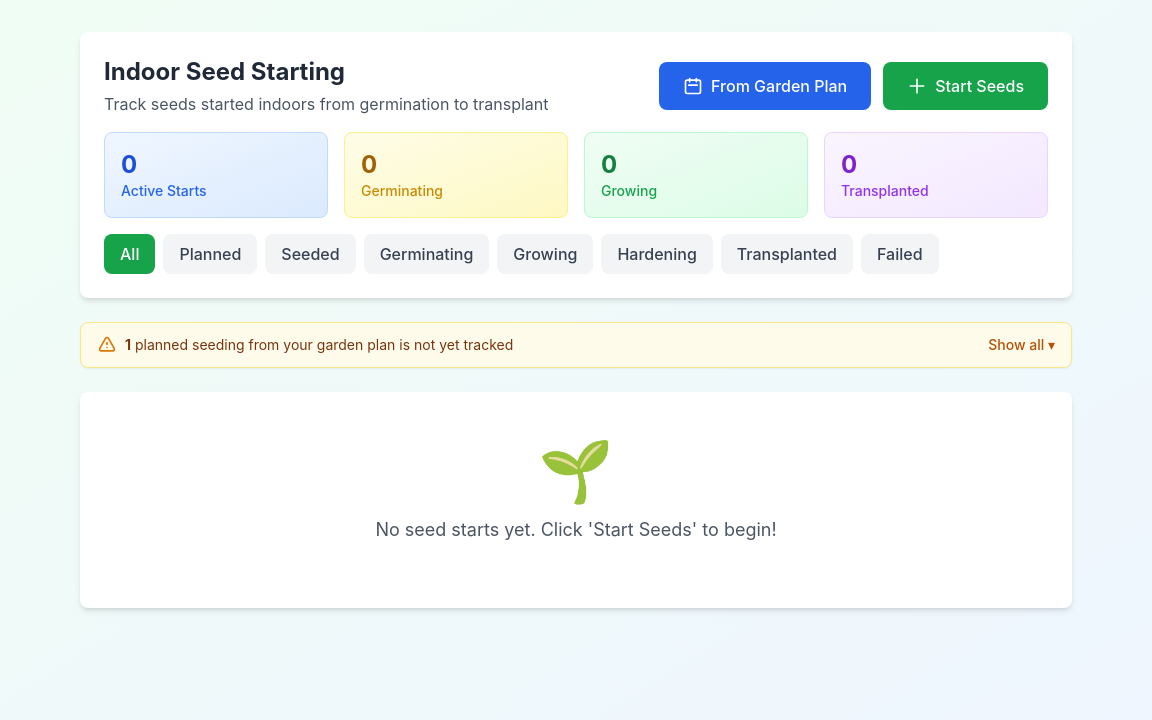
Test: IndoorSeedStarts — plan-only seedings banner › Dismiss removes the row locally without firing the POST; same props re-render also removes it
Click the button "Show all ▾" at (1022, 345), box [988,335,1055,355]
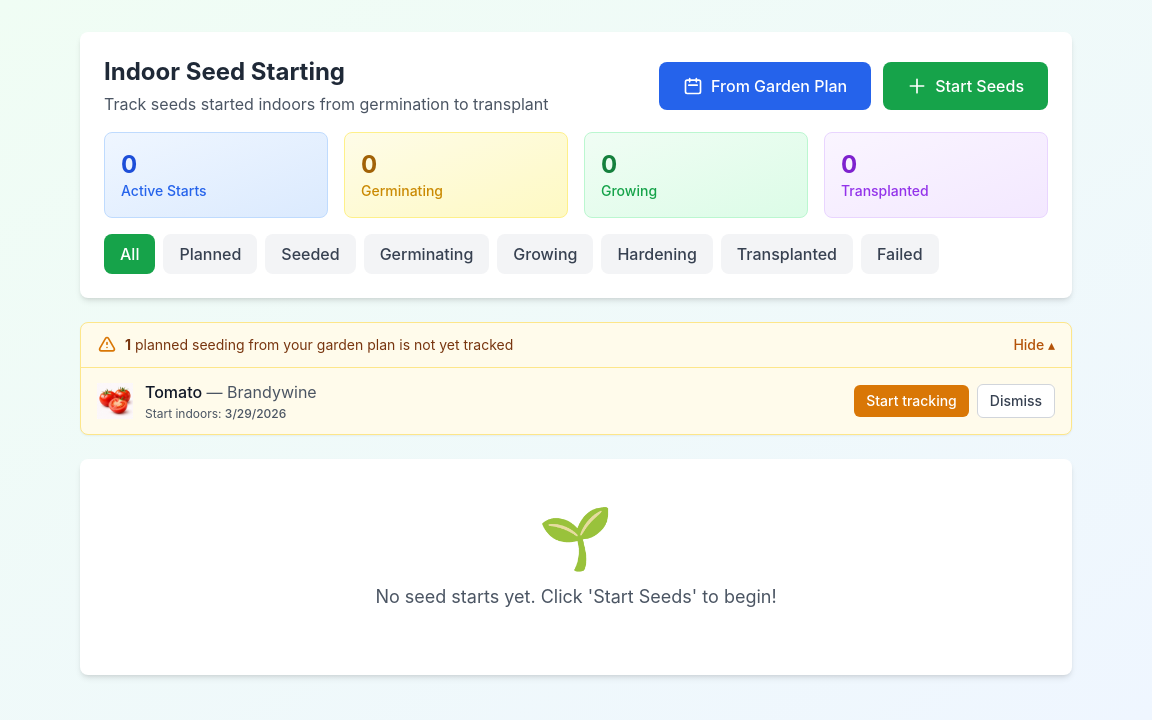
Click the button "Dismiss" at (1016, 401), box [977,384,1055,418]
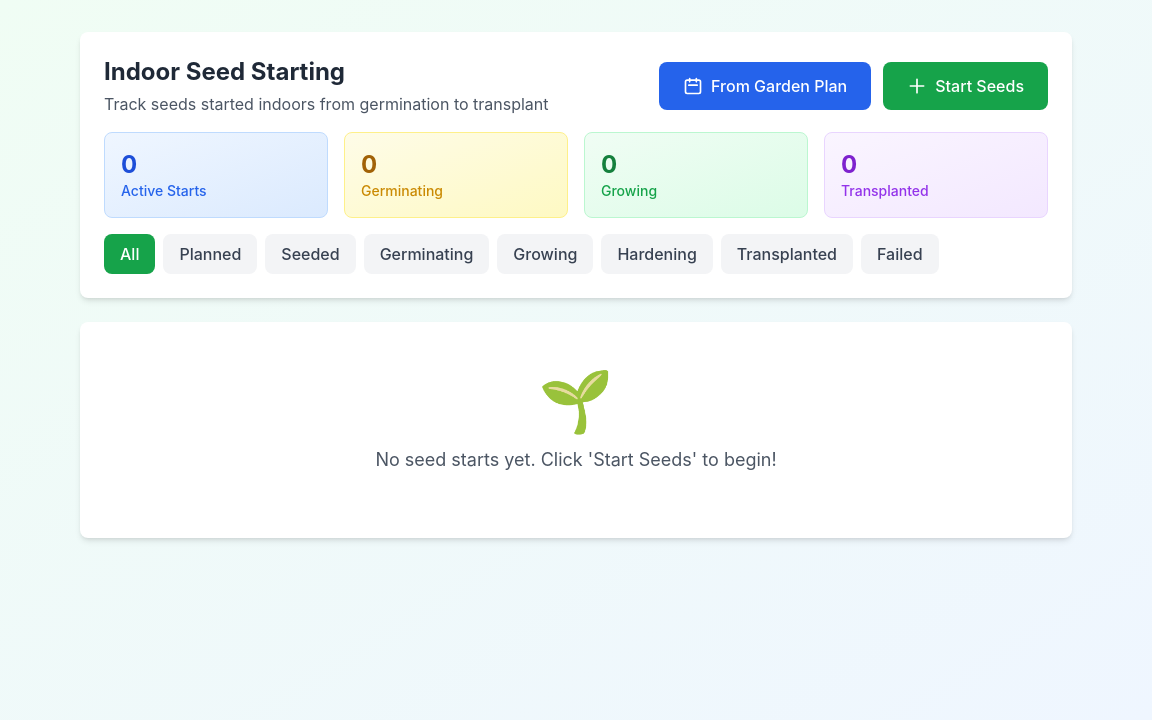
Result: the list item with test id "plan-only-row-501" is gone
